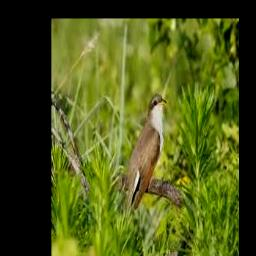Cuckoo: (124, 94, 167, 219)
